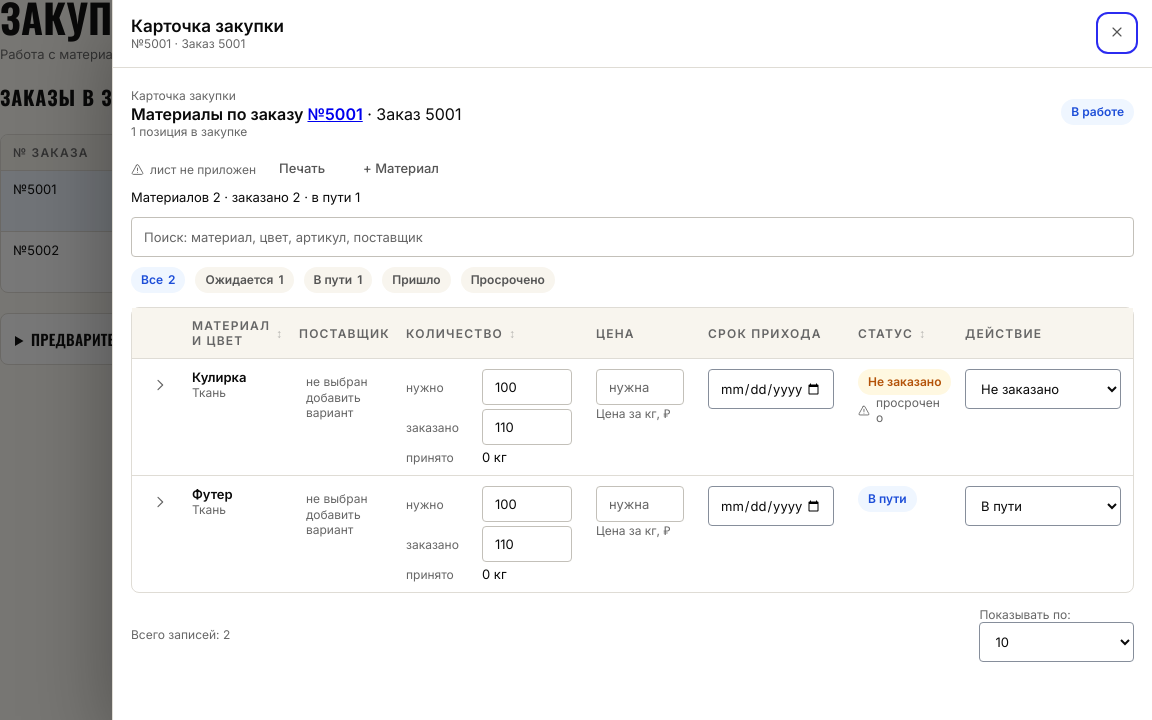
Test case: Закупка — карточка в широкой панели › поиск, фильтр и страница — в адресе; закрытие возвращает к списку
The width and height of the screenshot is (1152, 720).
In the search field named "Поиск по закупке": {"x": 632, "y": 237} [131,217,1134,257], type "кул"
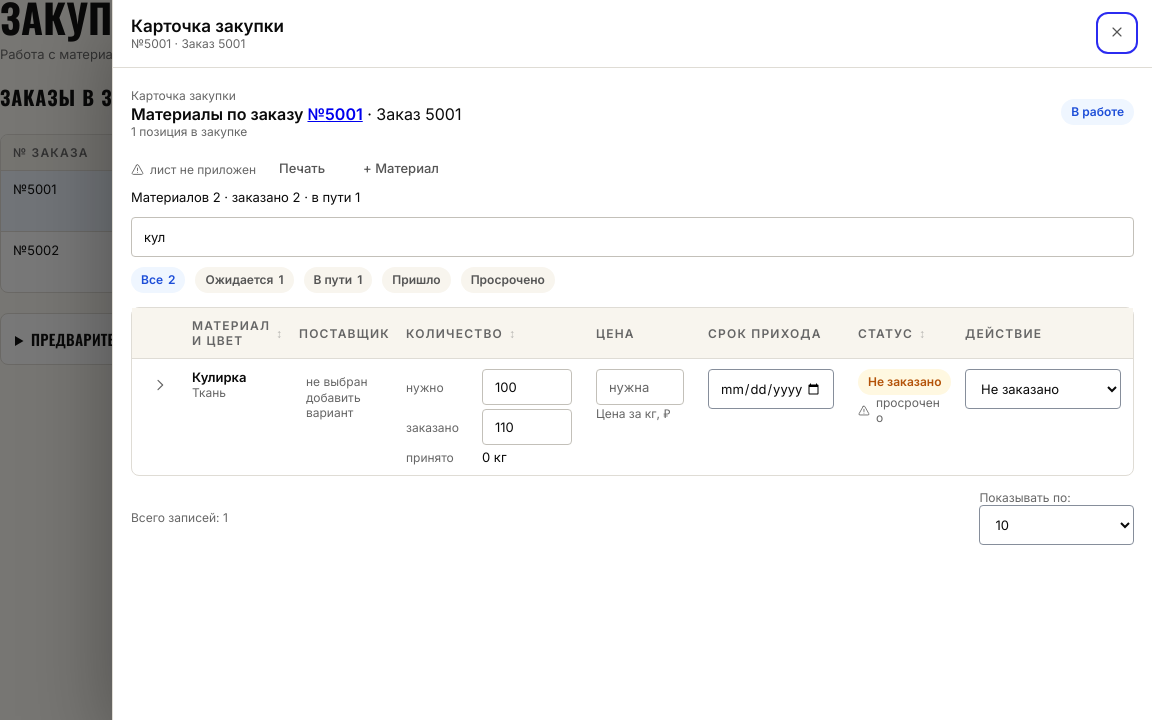
expect the text "Футер" is gone: met
Click the button named "Закрыть": {"x": 1117, "y": 33} [1100,16,1134,50]
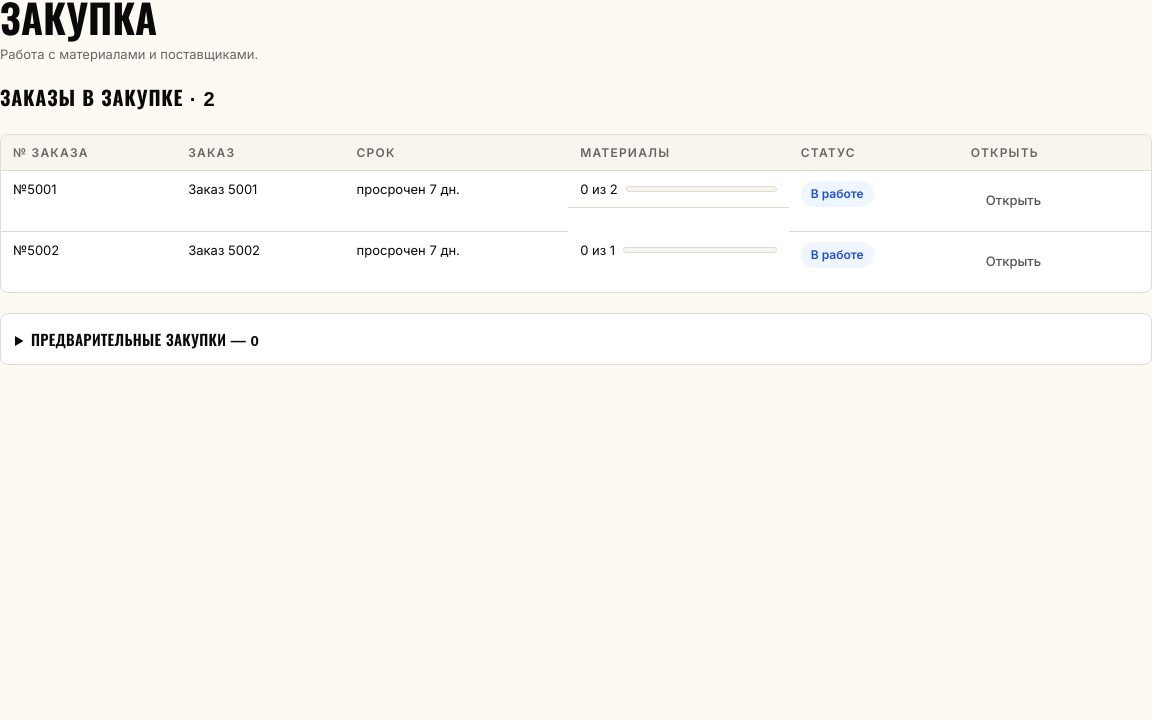
expect the dialog is gone: met
